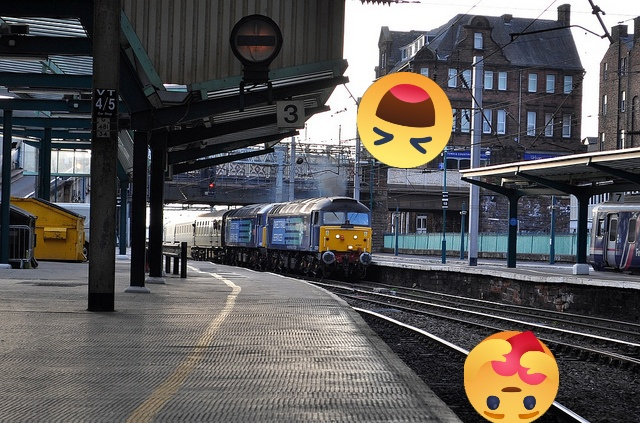care: (464, 331, 559, 423)
haha: (357, 72, 453, 168)
